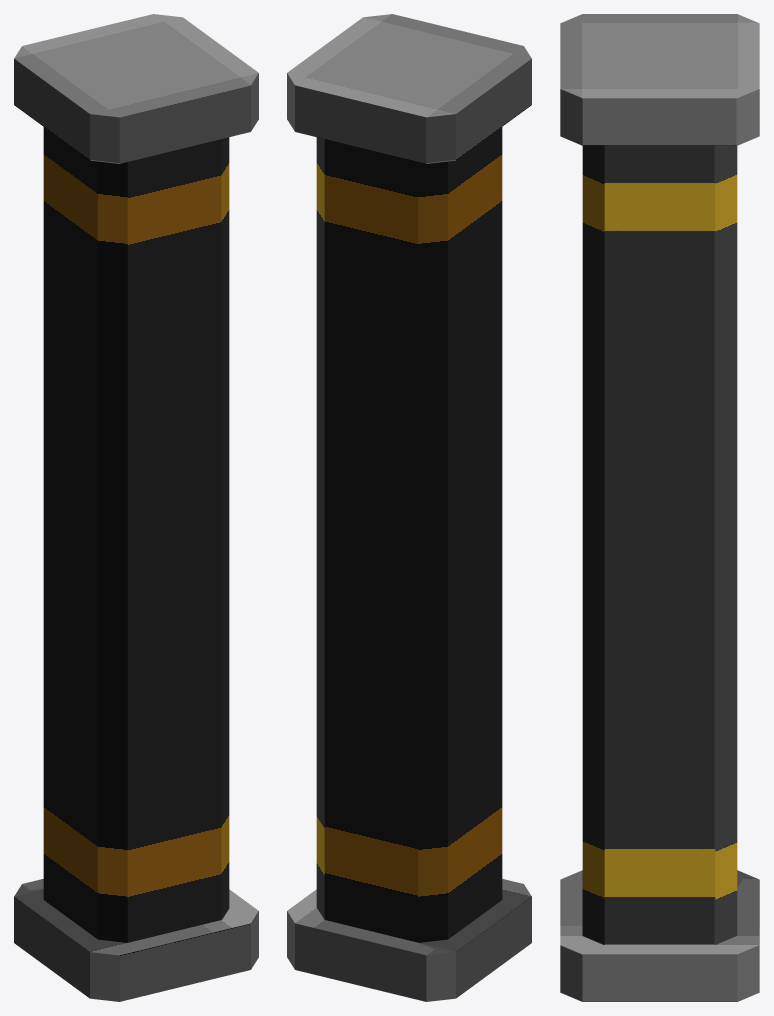
File: pillar_687x04.obj
3 views of the same model, side by side, from view 1: azimuth 30°, elevation 25°; view 2: azimuth 150°, elevation 25°; view 3: azimuth 270°, elevation 25° (orthographic). The views are drawn at different scales.
Visible parts, largest first — view 1: Pillar; view 2: Pillar; view 3: Pillar.
Part boxes in pixels (x1,y1,x2,y2): Pillar: (14,14,258,1001); Pillar: (287,14,531,1001); Pillar: (560,14,759,1001).
Bounding box in the file's own units: 1.01 × 5.07 × 1.01.
